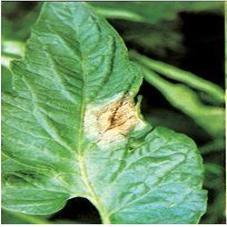Late Blight: (1, 1, 210, 225)
